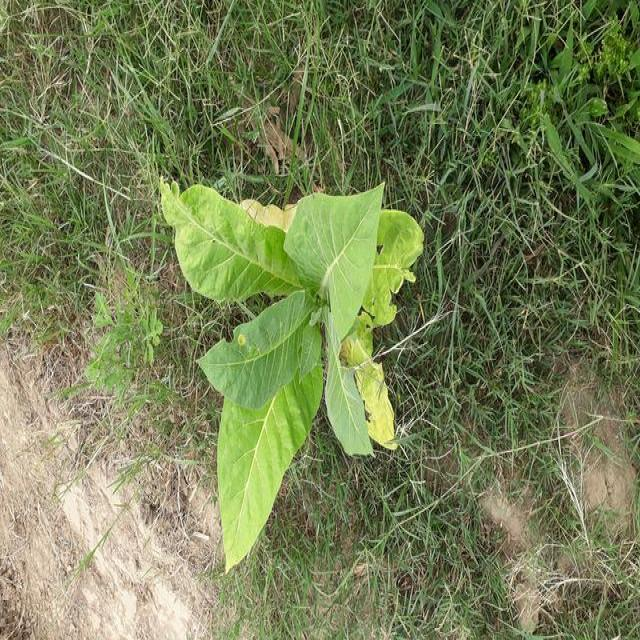crop: (160, 175, 418, 570)
